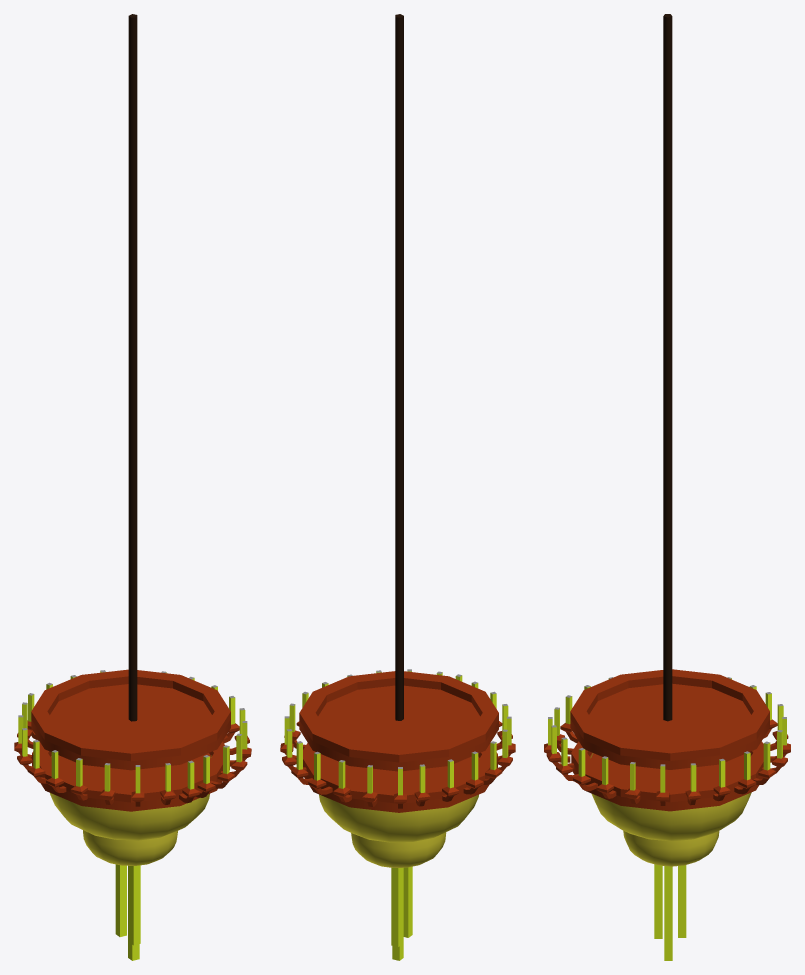
The model's file is SM_Chandelier.FBX.
3 renders of one model, left to right at view 1: azimuth 30°, elevation 25°; view 2: azimuth 150°, elevation 25°; view 3: azimuth 270°, elevation 25°, orthographic.
Parts seen in each view (by area): view 1: SM_Chandelier; view 2: SM_Chandelier; view 3: SM_Chandelier.
Part boxes in pixels (bbox=[...]): SM_Chandelier: bbox=[14, 14, 251, 960]; SM_Chandelier: bbox=[280, 14, 515, 960]; SM_Chandelier: bbox=[544, 14, 790, 960].
Size of the model in its own units: 209 by 925 by 220.
